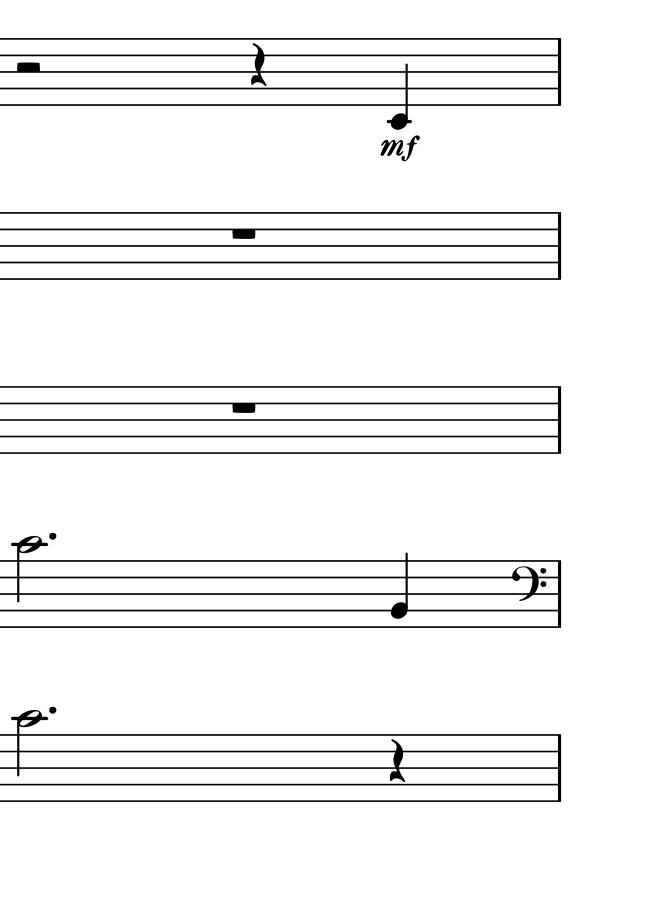2_10: (12, 535, 47, 631), (13, 709, 45, 806)
4_-2: (386, 35, 414, 130)
4_2: (390, 551, 419, 630)
Fclef: (510, 558, 548, 631)
Rests1: (229, 399, 261, 420), (229, 223, 260, 244)
Rests2: (13, 59, 43, 79)
Rests4: (384, 737, 411, 784), (249, 43, 271, 92)
Single_barline: (551, 37, 565, 106), (549, 210, 563, 279), (551, 385, 565, 454), (550, 559, 564, 628), (551, 733, 565, 802)
dot: (45, 530, 58, 542), (47, 704, 57, 716)
mf: (378, 133, 423, 166)
